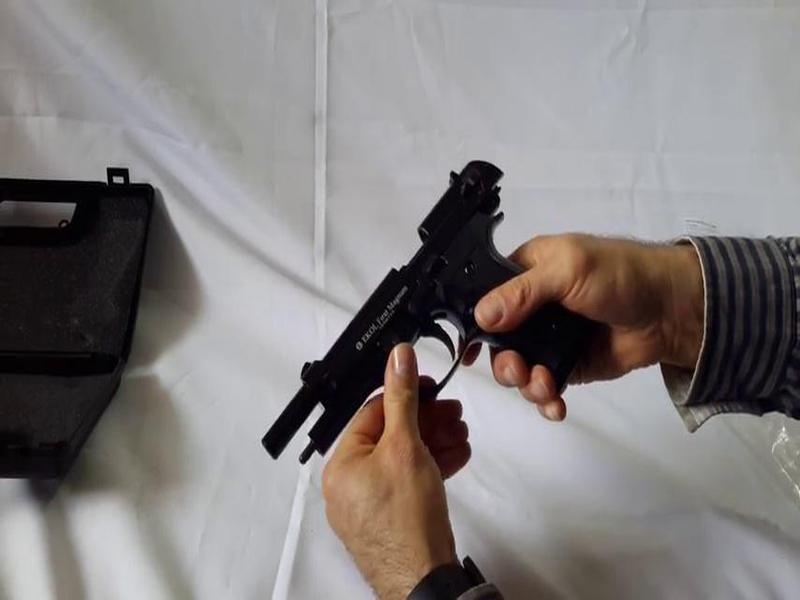Pistola: (242, 151, 638, 490)
